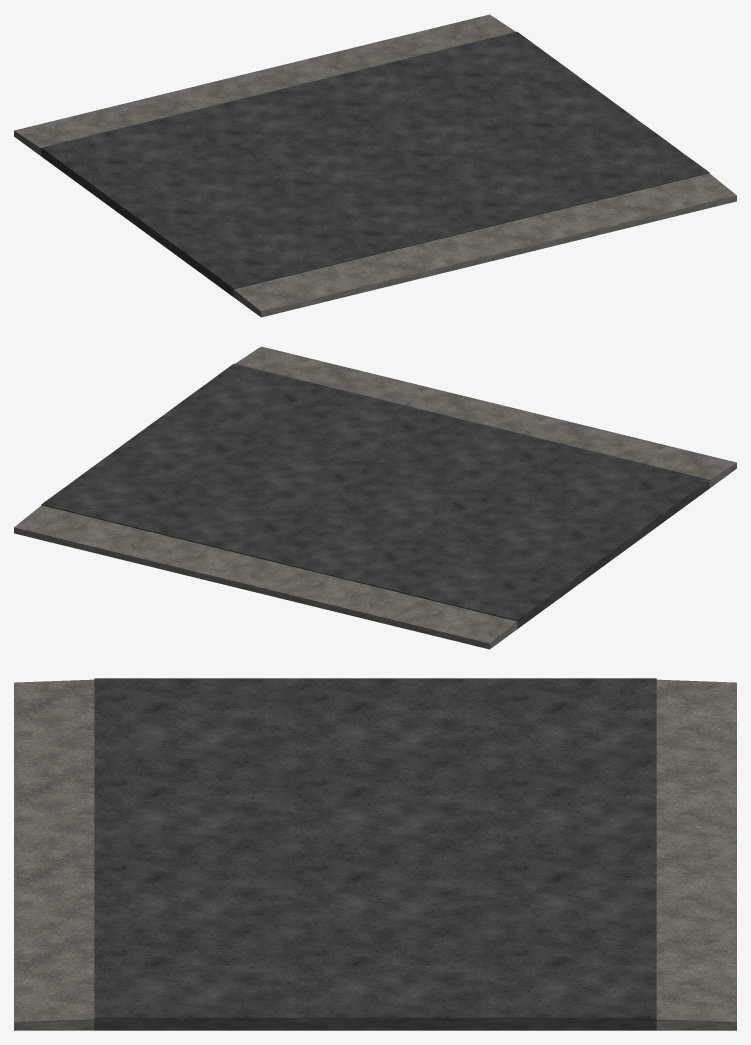
File: ROAD_local.glb
3 views of the same model, one above another, from view 1: azimuth 30°, elevation 25°; view 2: azimuth 150°, elevation 25°; view 3: azimuth 270°, elevation 25° (orthographic). The views are drawn at different scales.
Parts seen in each view (by area): view 1: SM_PZ_Asphalt_Roadbed_7m, SM_PZ_Shoulder_Left_1m, SM_PZ_Shoulder_Right_1m; view 2: SM_PZ_Asphalt_Roadbed_7m, SM_PZ_Shoulder_Right_1m, SM_PZ_Shoulder_Left_1m; view 3: SM_PZ_Asphalt_Roadbed_7m, SM_PZ_Shoulder_Left_1m, SM_PZ_Shoulder_Right_1m.
Part boxes in pixels (bbox=[...]): SM_PZ_Asphalt_Roadbed_7m: bbox=[41, 31, 709, 296]; SM_PZ_Shoulder_Left_1m: bbox=[233, 173, 736, 317]; SM_PZ_Shoulder_Right_1m: bbox=[14, 14, 515, 155]; SM_PZ_Asphalt_Roadbed_7m: bbox=[41, 363, 709, 628]; SM_PZ_Shoulder_Right_1m: bbox=[14, 505, 517, 649]; SM_PZ_Shoulder_Left_1m: bbox=[235, 346, 736, 487]; SM_PZ_Asphalt_Roadbed_7m: bbox=[94, 678, 656, 1030]; SM_PZ_Shoulder_Left_1m: bbox=[14, 679, 94, 1030]; SM_PZ_Shoulder_Right_1m: bbox=[656, 679, 736, 1030].
Size of the model in its own units: 10 by 0.18 by 9.
Materials: 2 (2 with a texture image).
